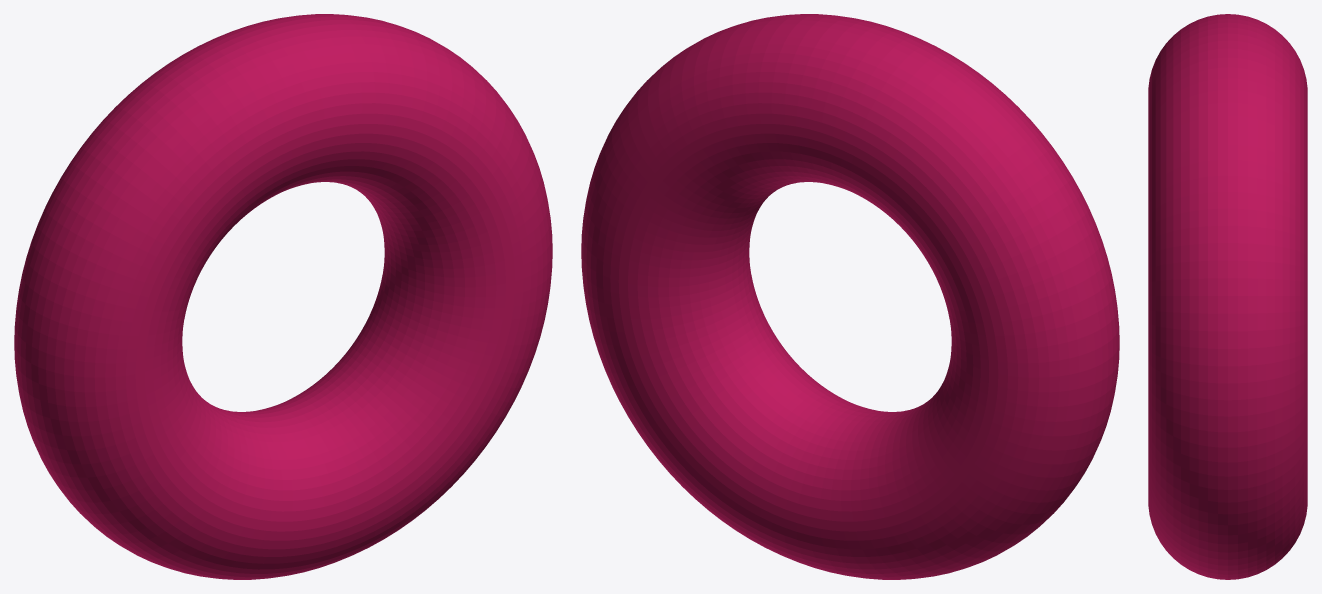
The picture shows the model from 3 angles, left to right: view 1: azimuth 30°, elevation 25°; view 2: azimuth 150°, elevation 25°; view 3: azimuth 270°, elevation 25°; orthographic projection. The views are drawn at different scales.
Visible parts, largest first — view 1: world; view 2: world; view 3: world.
Part boxes in pixels (x1,y1,x2,y2): world: [14, 14, 552, 579]; world: [581, 14, 1119, 579]; world: [1148, 14, 1307, 579].
Size of the model in its own units: 26.93 by 26.93 by 7.59.
